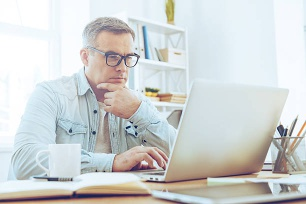male: (81, 20, 143, 89)
